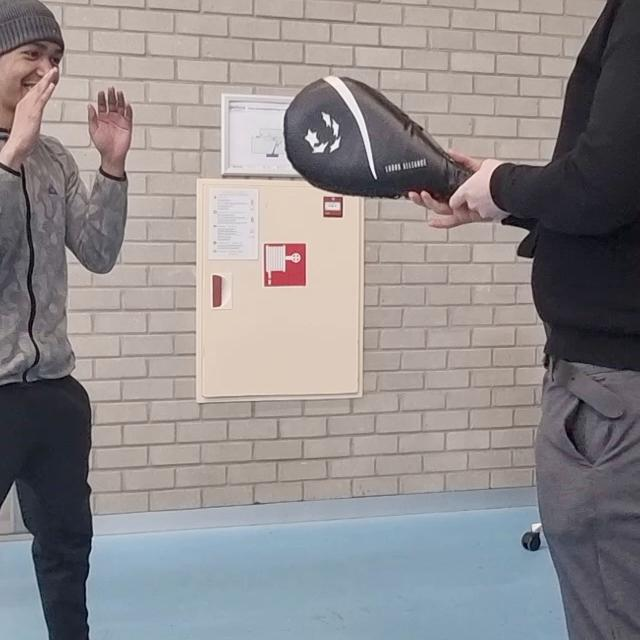paddle: (284, 74, 477, 204)
